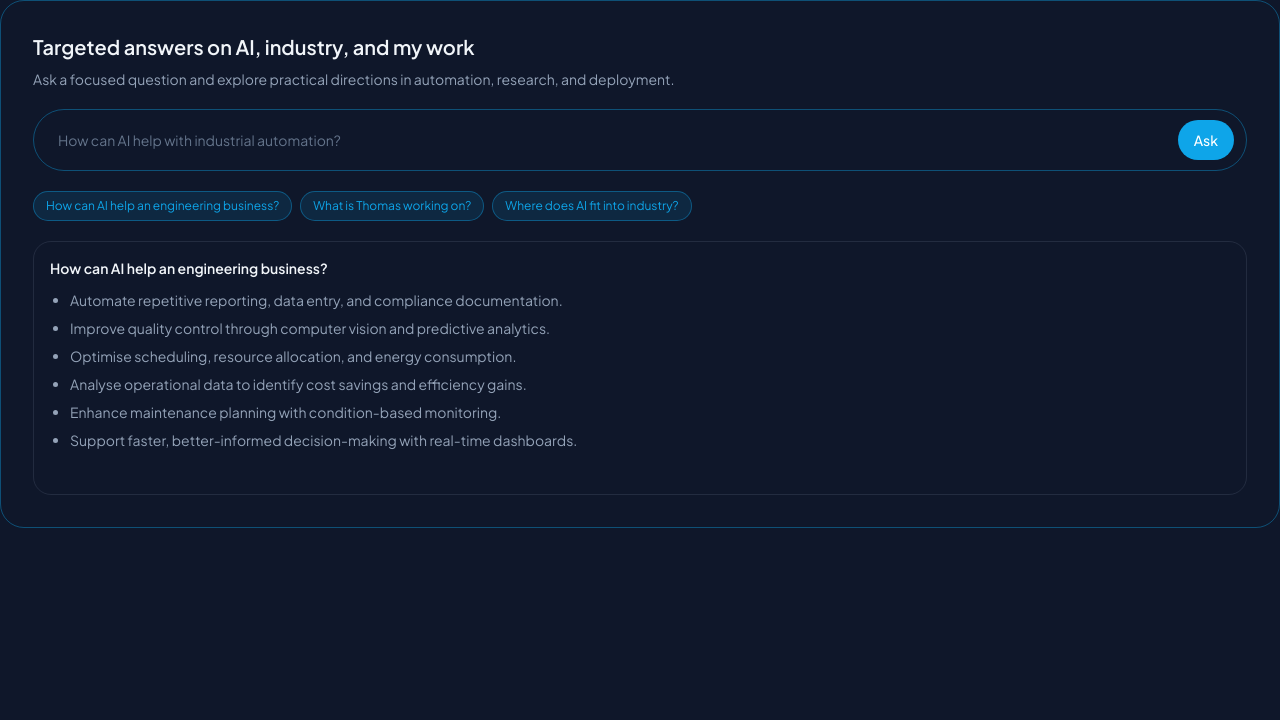
Test case: LLMInterface homepage variant › desktop contract › renders progressive text for streaming responses, then completion metadata
The width and height of the screenshot is (1280, 720).
Type "How can AI support operations?" into the field at (608, 140), box [46,118,1170,162]
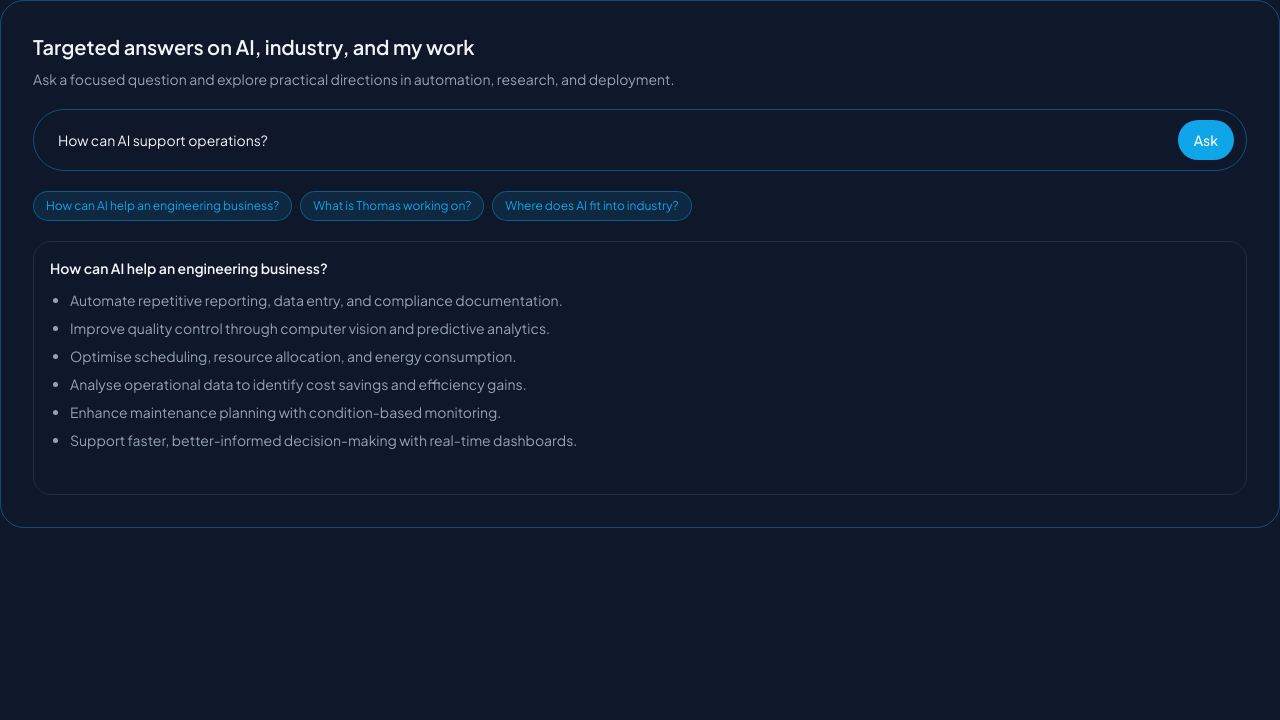
Click the button "Ask" at (1206, 140), box [1178,120,1234,160]
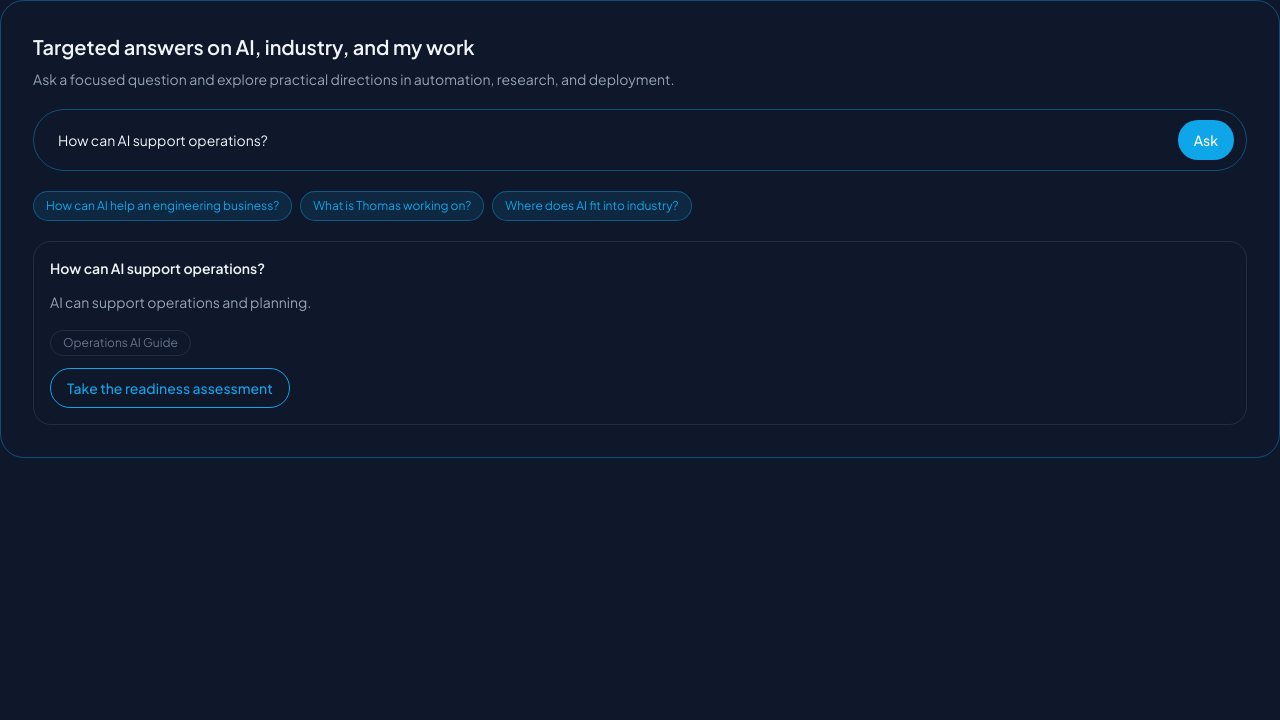
Result: the text "AI can support operations and planning." is shown at [50,293,311,311]
Result: the link "Operations AI Guide" is shown at [50,330,191,356]
